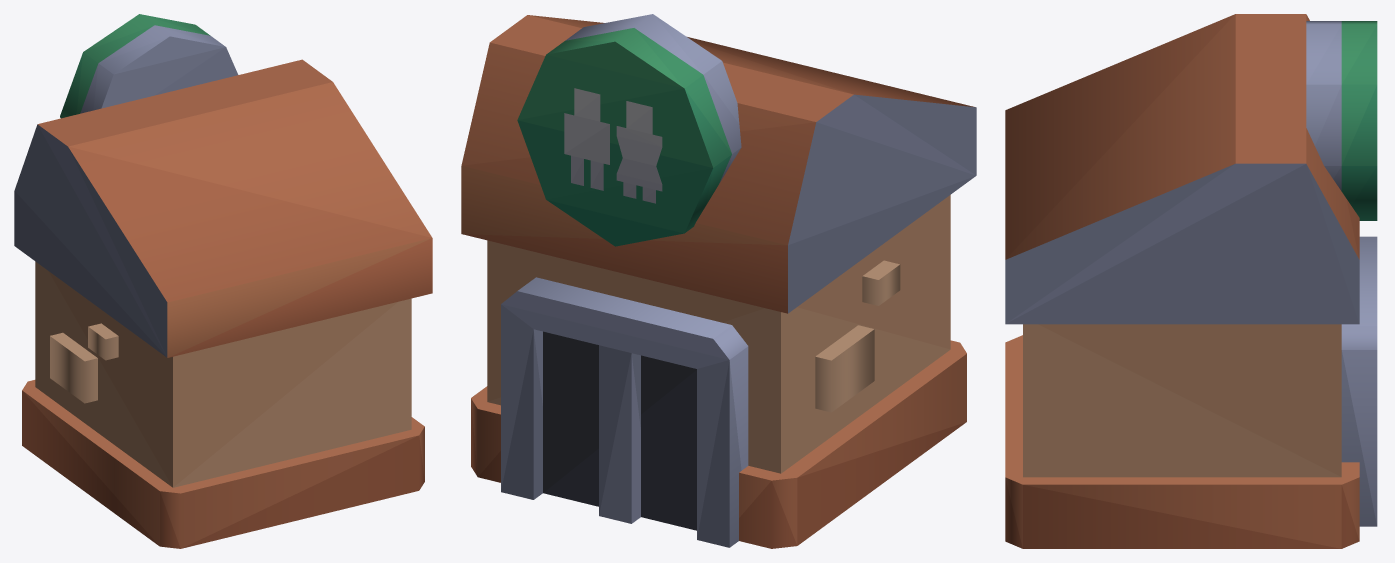
File: coaster_stall_toilets.glb
3 views of the same model, side by side, from view 1: azimuth 30°, elevation 25°; view 2: azimuth 150°, elevation 25°; view 3: azimuth 270°, elevation 25° (orthographic). The views are drawn at different scales.
Parts seen in each view (by area): view 1: coaster_stall_toilets; view 2: coaster_stall_toilets; view 3: coaster_stall_toilets.
Boxes of the visible parts, bbox=[...] form: coaster_stall_toilets: bbox=[14, 14, 432, 548]; coaster_stall_toilets: bbox=[461, 14, 976, 548]; coaster_stall_toilets: bbox=[1005, 14, 1377, 548].
Size of the model in its own units: 1 by 1.4 by 1.06.
